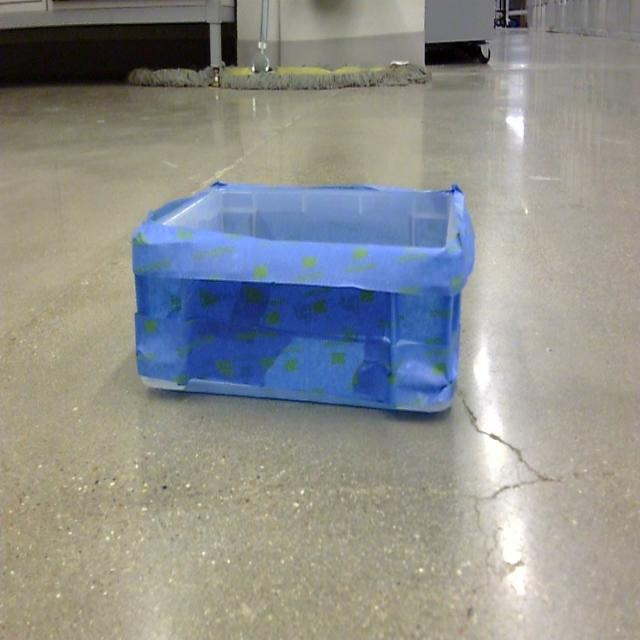bucket: (130, 182, 477, 419)
